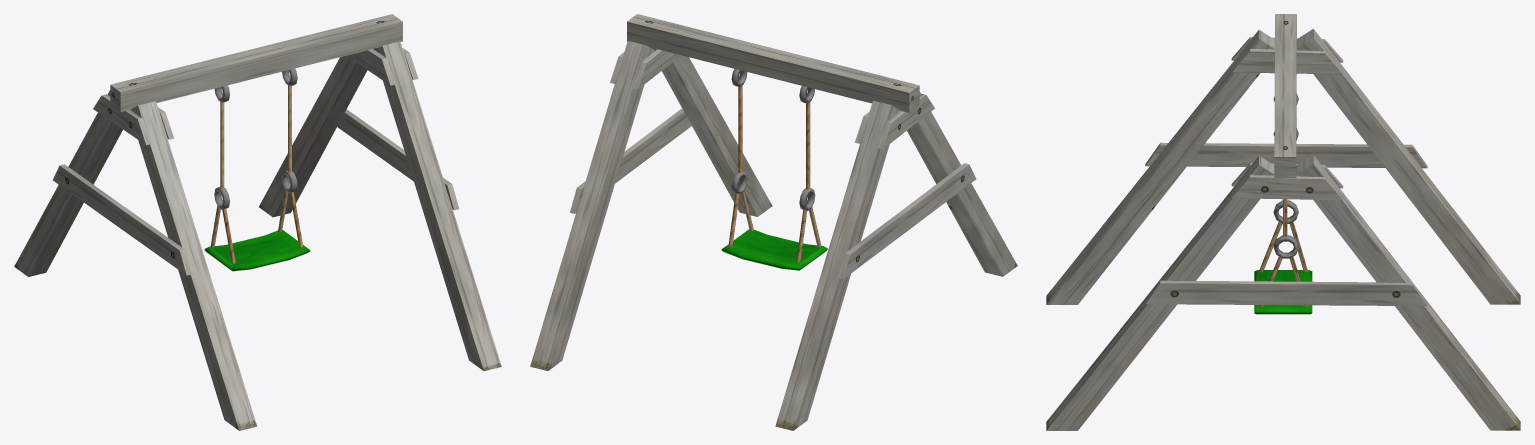
The model's file is Swing.fbx.
3 views of the same model, side by side, from view 1: azimuth 30°, elevation 25°; view 2: azimuth 150°, elevation 25°; view 3: azimuth 270°, elevation 25° (orthographic). The views are drawn at different scales.
Parts seen in each view (by area): view 1: Structure, Sw; view 2: Structure, Sw; view 3: Structure, Sw.
Boxes of the visible parts, bbox=[...] form: Structure: bbox=[14, 14, 501, 430]; Sw: bbox=[204, 68, 310, 271]; Structure: bbox=[530, 14, 1017, 430]; Sw: bbox=[721, 69, 827, 270]; Structure: bbox=[1046, 14, 1520, 430]; Sw: bbox=[1254, 93, 1312, 314].
Bounding box in the file's own units: 246 × 220 × 339.
